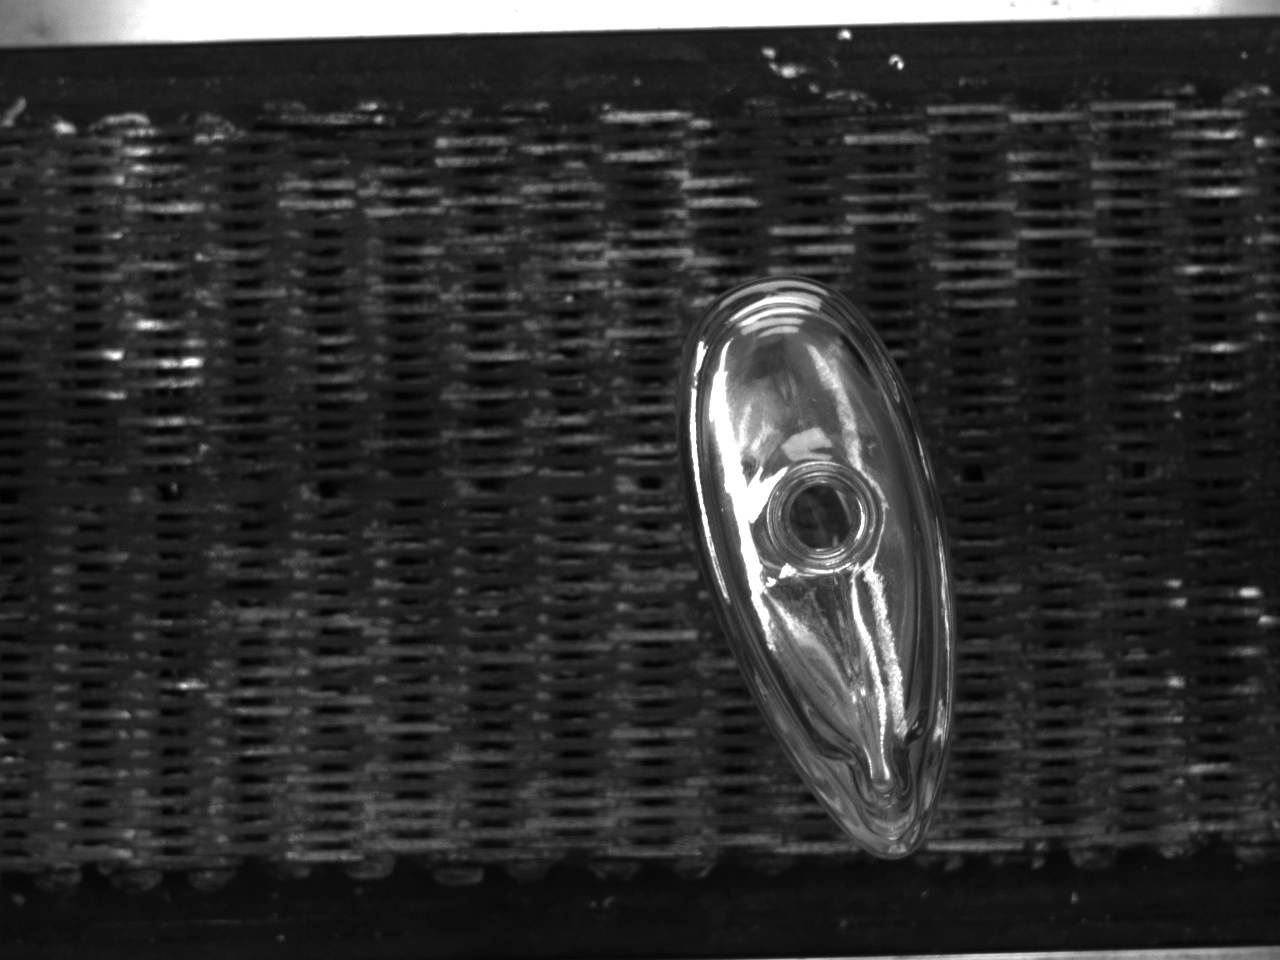bottleneck: (766, 461, 880, 570)
